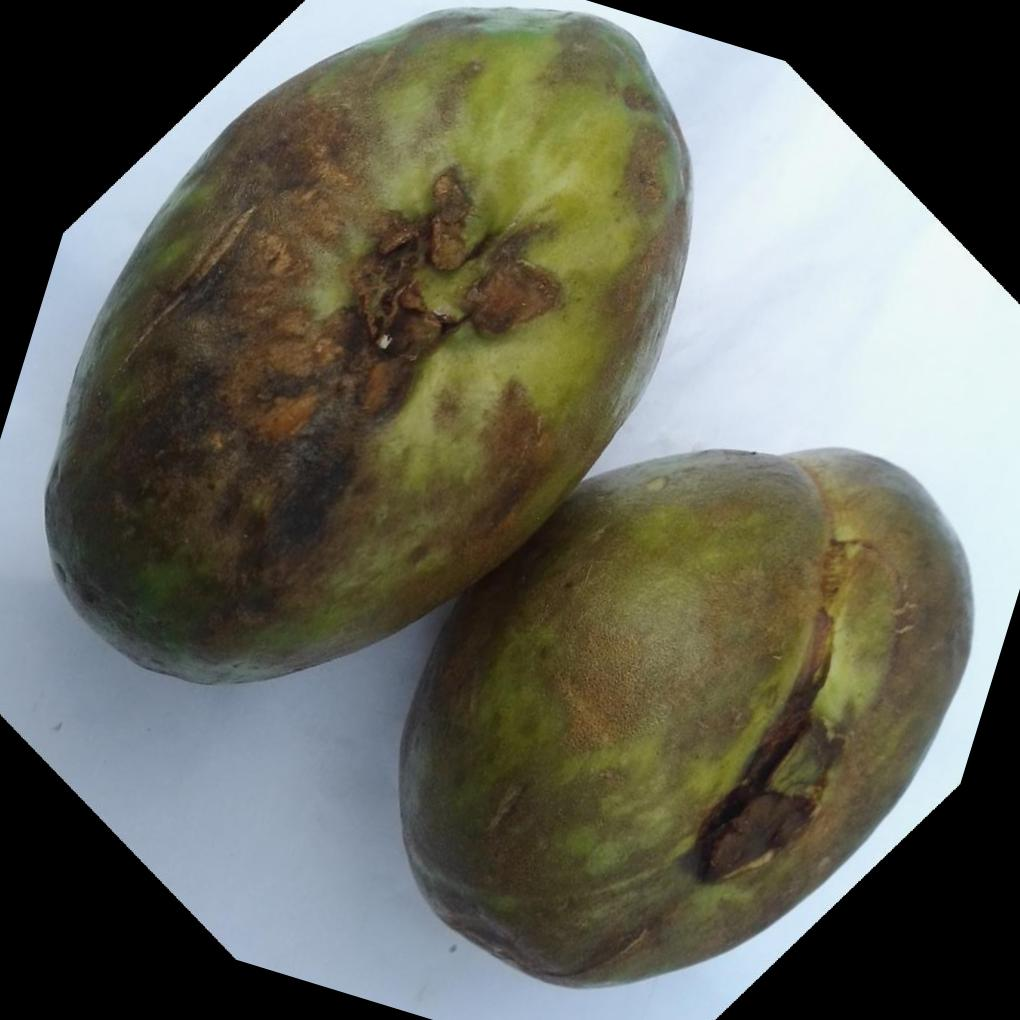FreshOrange: (38, 1, 974, 989)
